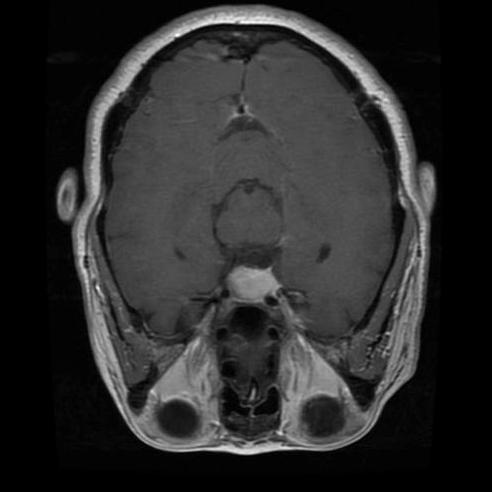Tumour-Pituitary: (205, 255, 296, 314)
